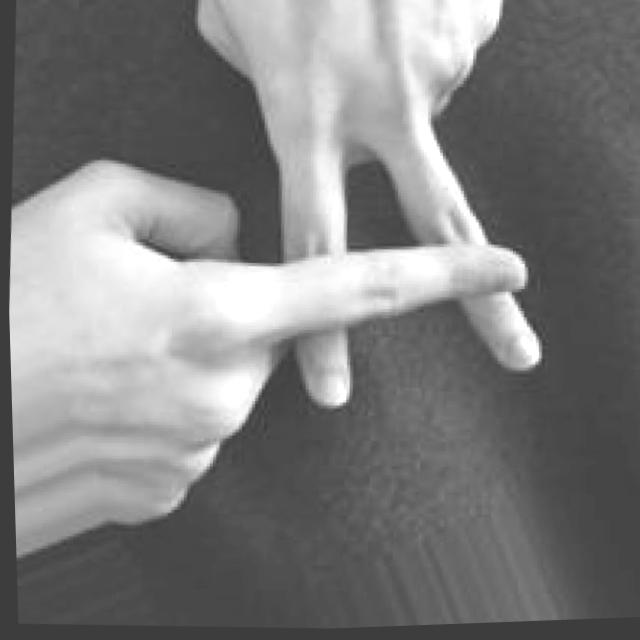A: (17, 0, 569, 549)
